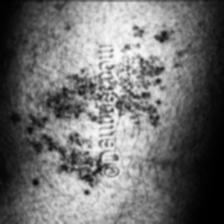Potentially Malignant Skin Tumors: (9, 112, 102, 196), (86, 60, 164, 124)
